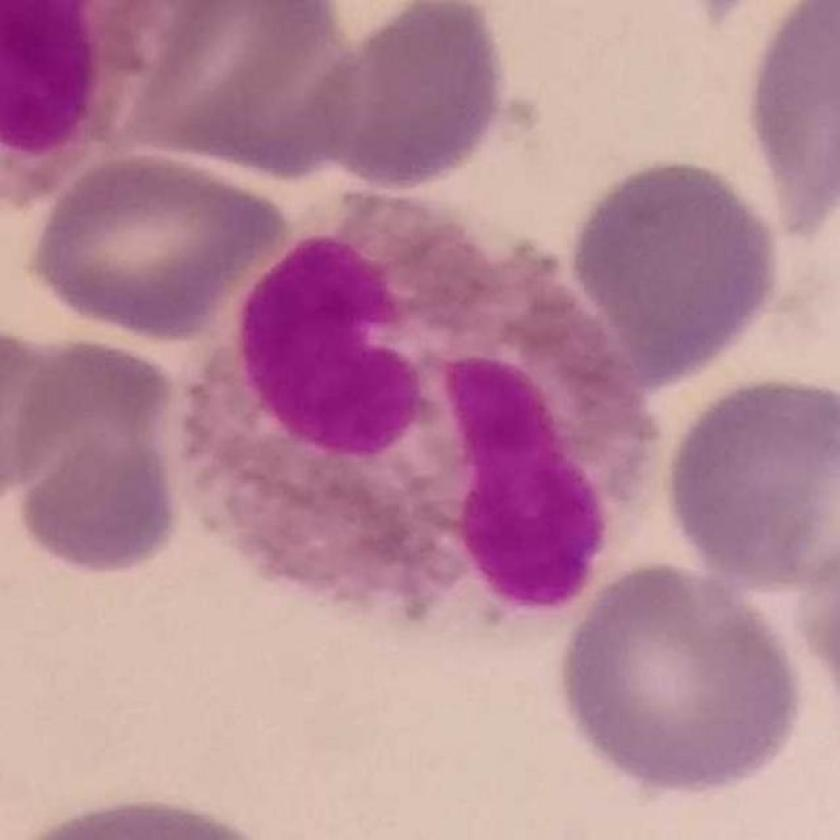eosinophil: (182, 184, 672, 651)
